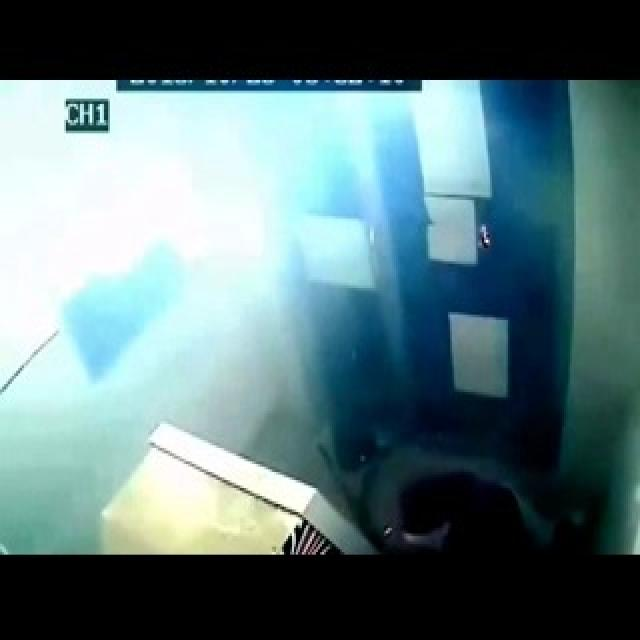thief: (392, 462, 550, 554)
